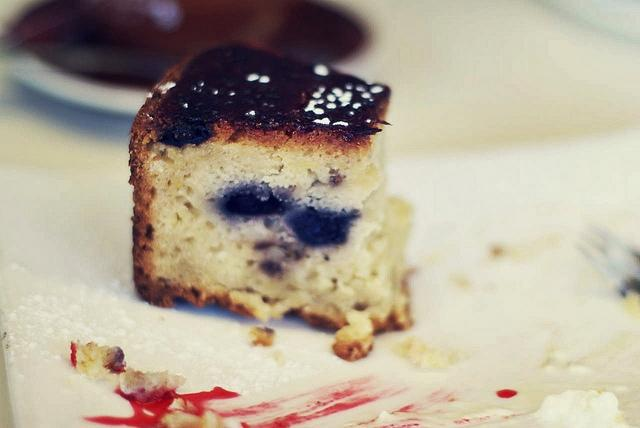blueberry: (285, 207, 360, 245), (156, 121, 213, 148), (226, 192, 284, 216)
